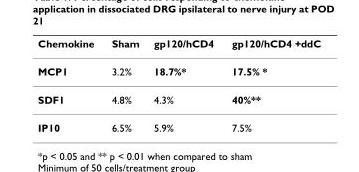table: (37, 36, 320, 133)
table column: (222, 36, 320, 133), (145, 36, 222, 133), (37, 36, 102, 133), (102, 36, 145, 133)
table column header: (37, 36, 320, 57)
table row: (37, 57, 320, 85), (37, 85, 320, 113), (37, 36, 320, 57), (37, 113, 320, 133)
